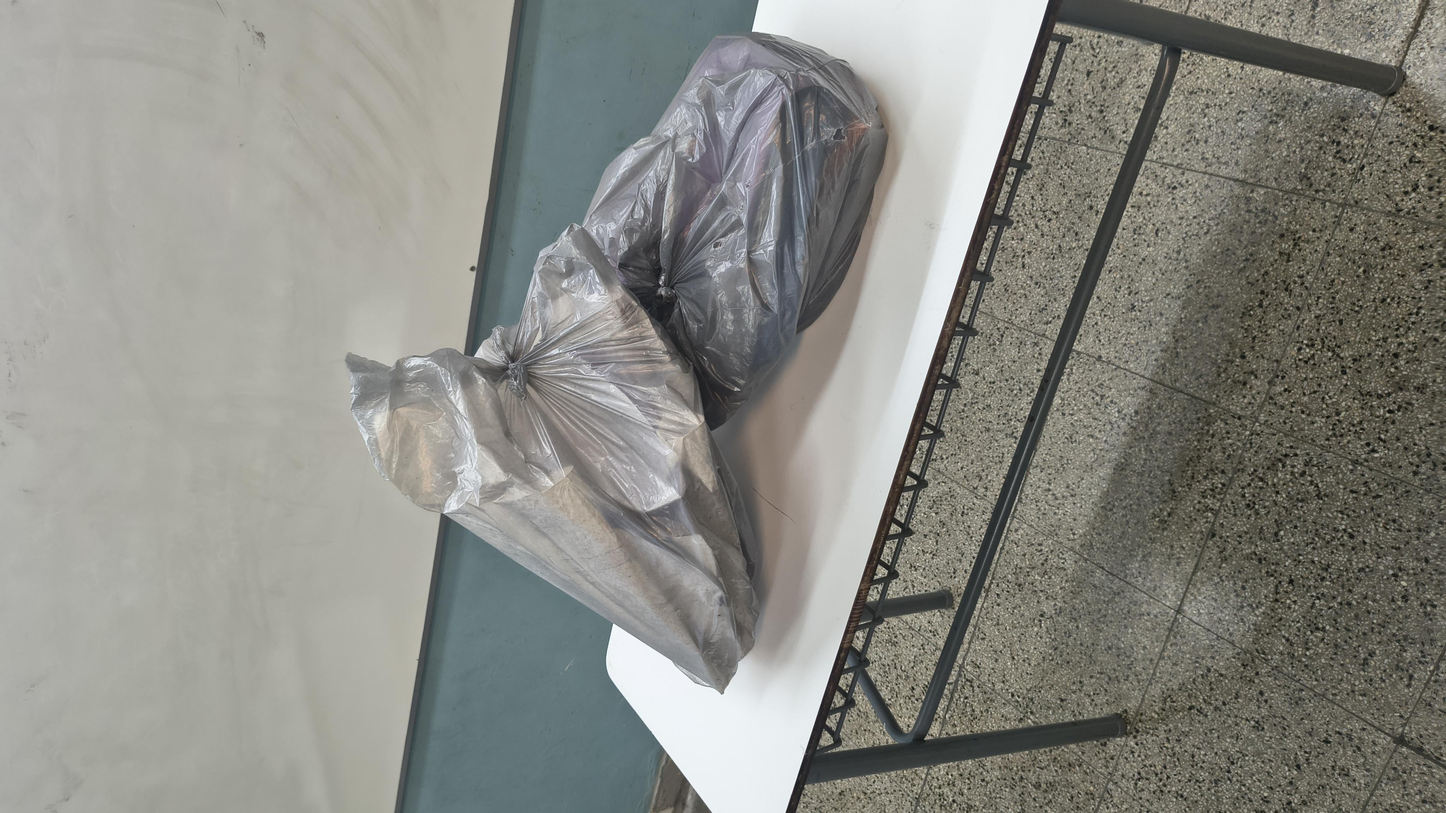Garbage: (182, 177, 1036, 480), (665, 306, 1393, 492)
